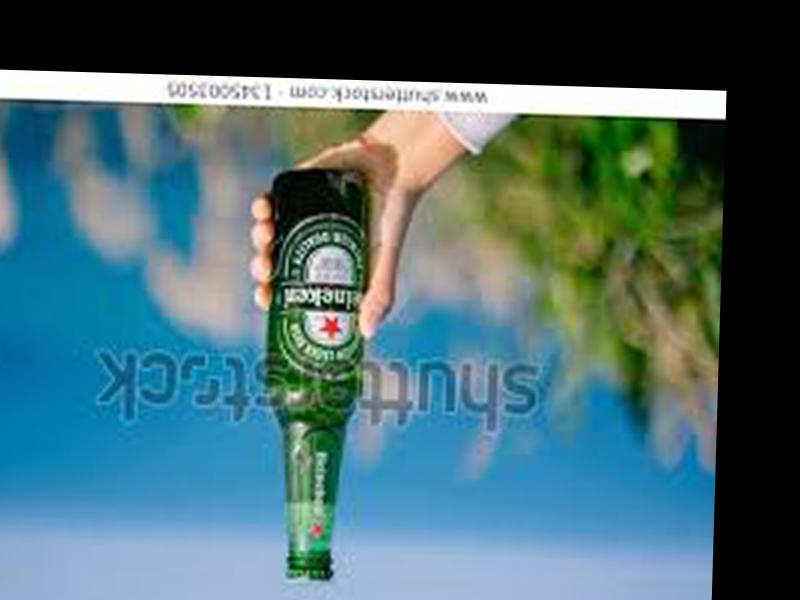Beer: (260, 166, 371, 584)
